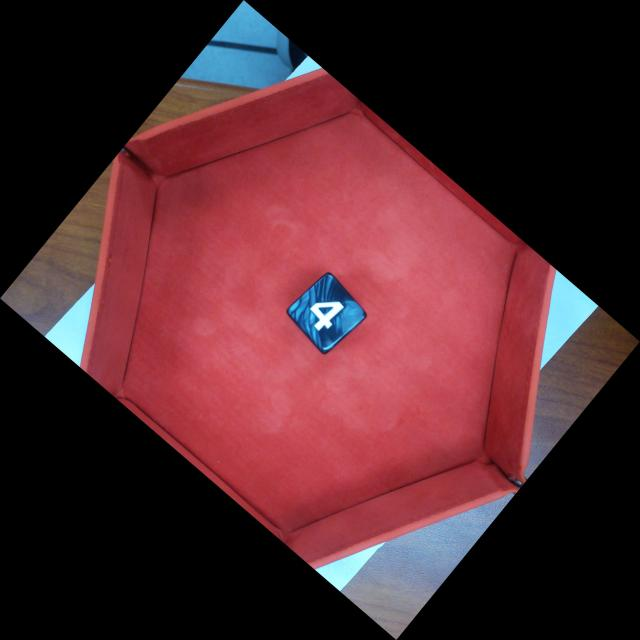dice: (284, 269, 370, 356)
